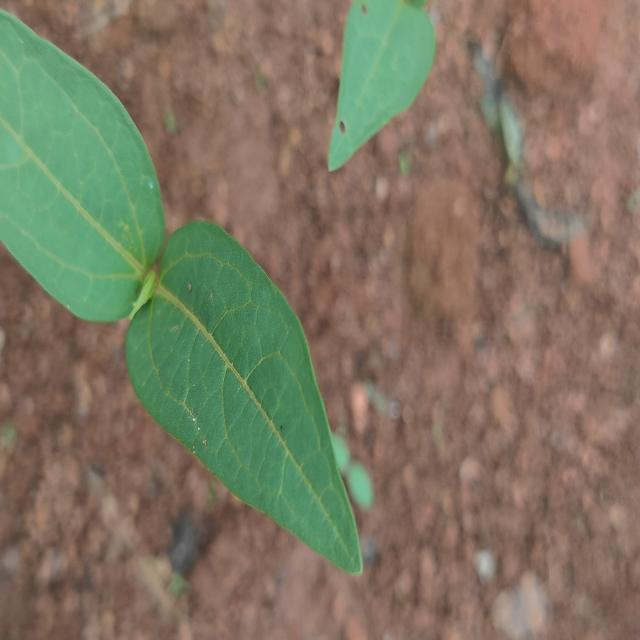Black gram_healthy: (126, 217, 364, 574)
